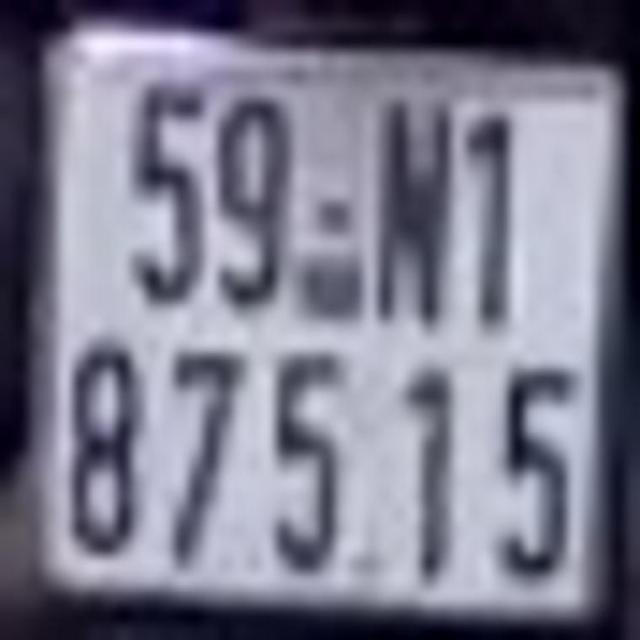1: (466, 124, 529, 327), (399, 368, 457, 585)
5: (264, 351, 348, 568), (501, 361, 581, 586), (138, 102, 208, 296)
7: (160, 352, 247, 577)
8: (66, 342, 145, 564)
9: (214, 96, 288, 305)
H: (374, 88, 453, 330)
